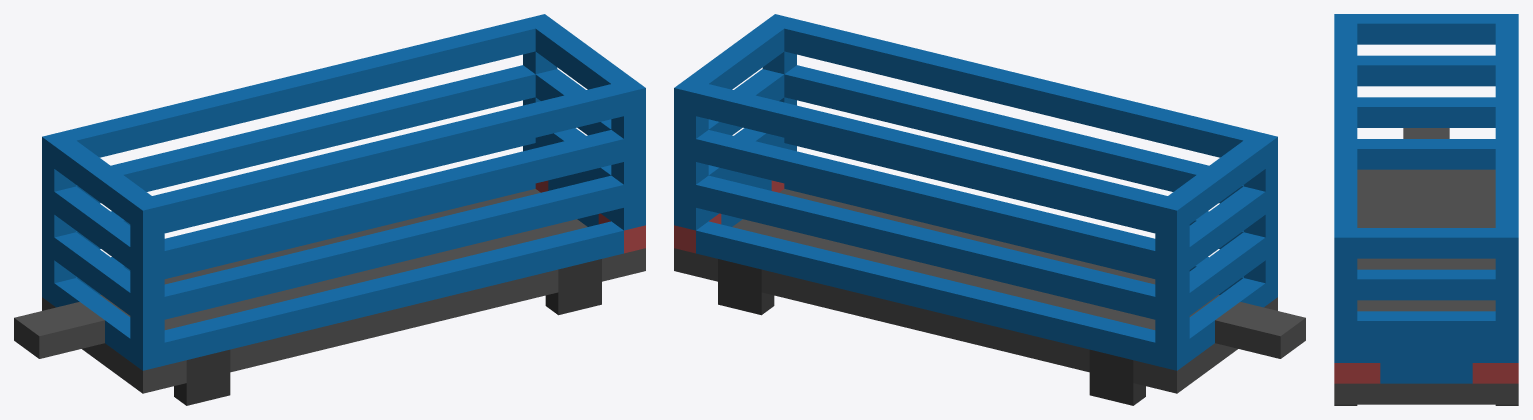
The model's file is tractor-trailer-v2-blue.gltf.
3 views of the same model, side by side, from view 1: azimuth 30°, elevation 25°; view 2: azimuth 150°, elevation 25°; view 3: azimuth 270°, elevation 25° (orthographic). The views are drawn at different scales.
Visible parts, largest first — view 1: model, wheels; view 2: model, wheels; view 3: model.
Part boxes in pixels (bbox=[...]): model: bbox=[14, 14, 645, 405]; wheels: bbox=[174, 259, 601, 404]; model: bbox=[674, 14, 1305, 405]; wheels: bbox=[718, 261, 1145, 405]; model: bbox=[1334, 14, 1518, 405].
Bounding box in the file's own units: 2.6 × 0.9 × 0.8.
Materials: 2 (2 with a texture image).
